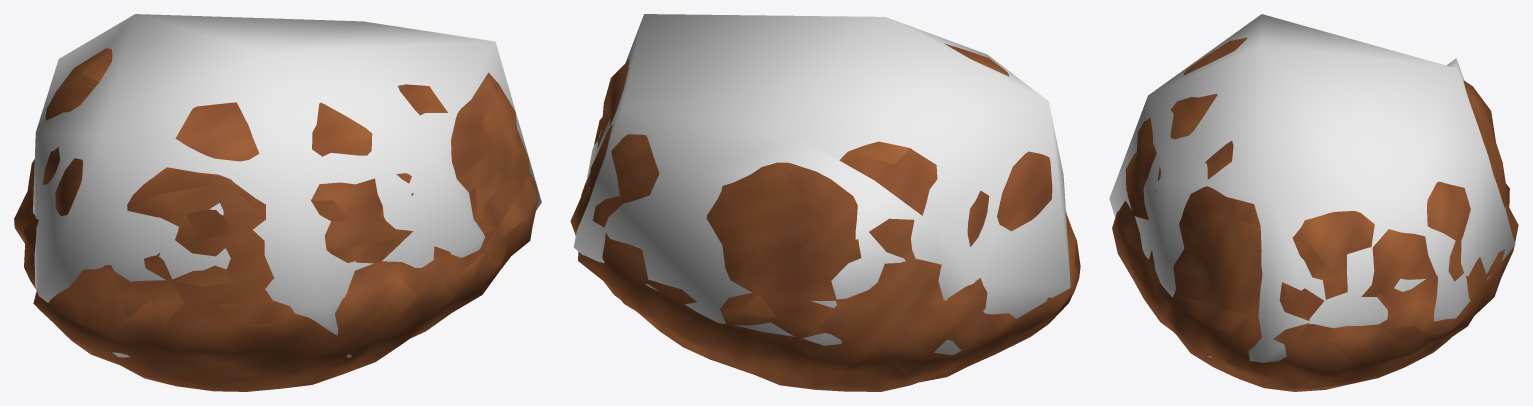
Rendered from WindBoulder.glb.
3 views of the same model, side by side, from view 1: azimuth 30°, elevation 25°; view 2: azimuth 150°, elevation 25°; view 3: azimuth 270°, elevation 25° (orthographic). The views are drawn at different scales.
Visible parts, largest first — view 1: WindBoulder_COL, WindBoulder_LOD0; view 2: WindBoulder_COL, WindBoulder_LOD0; view 3: WindBoulder_COL, WindBoulder_LOD0.
Boxes of the visible parts, box(x1,y1,x2,y2) form: WindBoulder_COL: box(33, 14, 541, 357); WindBoulder_LOD0: box(14, 48, 538, 391); WindBoulder_COL: box(573, 14, 1070, 355); WindBoulder_LOD0: box(570, 43, 1080, 391); WindBoulder_COL: box(1109, 14, 1515, 362); WindBoulder_LOD0: box(1112, 37, 1518, 391).
Size of what is drawn, in the model's own units: 16.86 by 11.26 by 13.77.
1 material, 1 textured.
